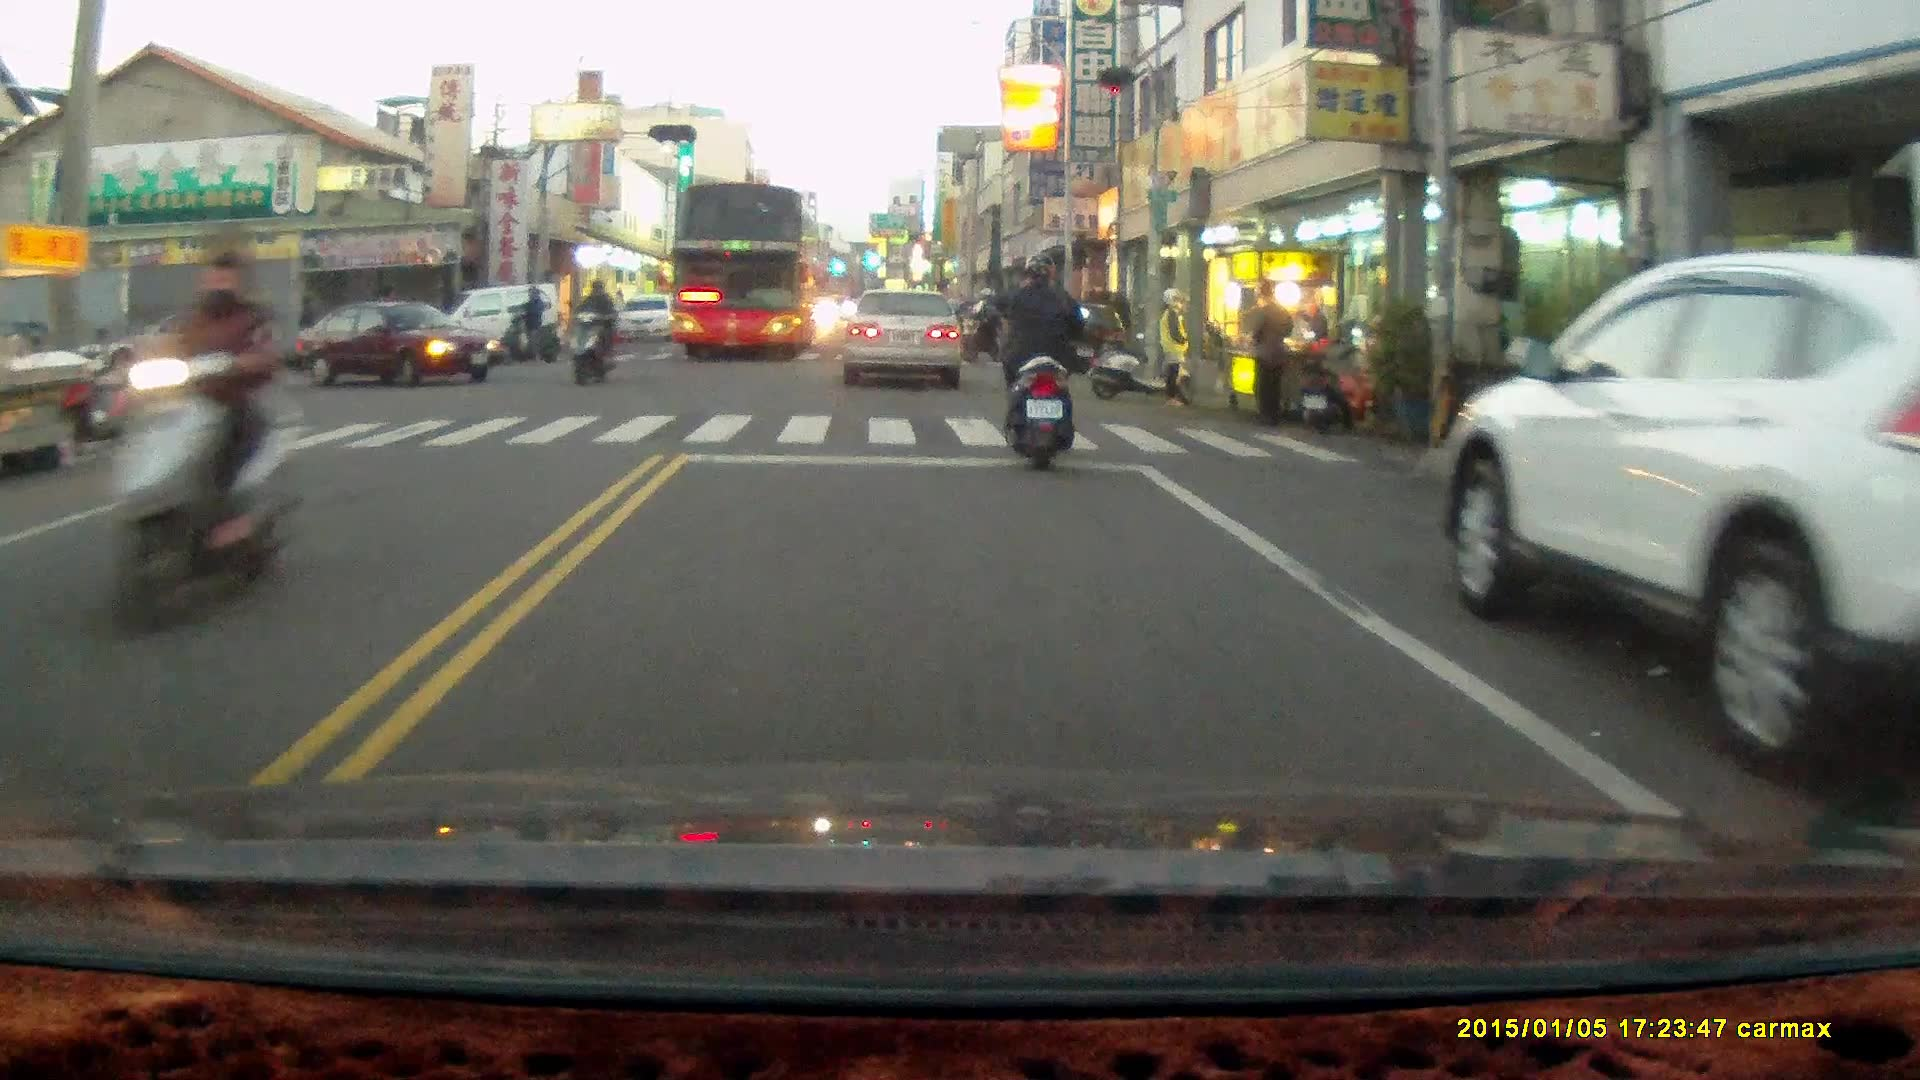pedestrian: (1247, 278, 1291, 429), (1153, 284, 1191, 410), (292, 292, 318, 369)
rider: (115, 217, 304, 639), (989, 250, 1091, 471), (568, 278, 617, 387), (496, 283, 559, 363), (959, 284, 1012, 364)
vehicle: (1435, 250, 1920, 780), (667, 186, 818, 370), (298, 300, 497, 388), (429, 281, 572, 374), (842, 287, 967, 394), (95, 311, 271, 383), (1035, 302, 1131, 376), (611, 291, 687, 344)
